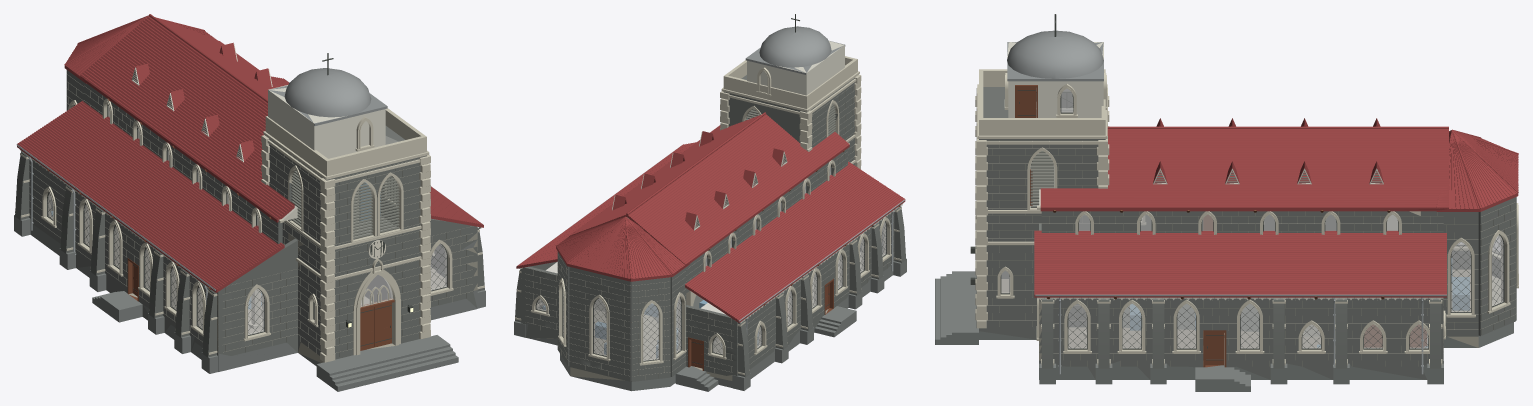
Rendered from clean.glb.
3 views of the same model, side by side, from view 1: azimuth 30°, elevation 25°; view 2: azimuth 150°, elevation 25°; view 3: azimuth 270°, elevation 25° (orthographic). The views are drawn at different scales.
Parts seen in each view (by area): view 1: new_roof_metal_oxblood, basalt_masonry, new_limestone_pale_aged, basalt_dressed, rubble_pointing, limewash, new_zinc_dome_aged, glass, painted_timber_warmgrey, steel_painted_worn, galvanized_steel, limestone_flag (+4 smaller); view 2: new_roof_metal_oxblood, basalt_masonry, new_limestone_pale_aged, basalt_dressed, glass, new_zinc_dome_aged, rubble_pointing, limewash, steel_painted_worn, limestone_flag, galvanized_steel, white_peeling_timber (+2 smaller); view 3: new_roof_metal_oxblood, basalt_masonry, new_limestone_pale_aged, basalt_dressed, glass, rubble_pointing, new_zinc_dome_aged, limewash, steel_painted_worn, limestone_flag, galvanized_steel, painted_timber_warmgrey (+5 smaller).
Boxes of the visible parts, x1,y1,x2,y2 form: new_roof_metal_oxblood: [17, 14, 483, 292]; basalt_masonry: [15, 70, 484, 359]; new_limestone_pale_aged: [15, 98, 484, 362]; basalt_dressed: [14, 215, 485, 391]; rubble_pointing: [30, 74, 477, 357]; limewash: [88, 85, 385, 241]; new_zinc_dome_aged: [269, 68, 387, 125]; glass: [47, 106, 446, 334]; painted_timber_warmgrey: [132, 70, 399, 239]; steel_painted_worn: [47, 53, 447, 335]; galvanized_steel: [16, 79, 481, 304]; limestone_flag: [118, 235, 444, 362]; new_roof_metal_oxblood: [516, 112, 905, 322]; basalt_masonry: [515, 75, 905, 381]; new_limestone_pale_aged: [515, 56, 901, 375]; basalt_dressed: [514, 258, 906, 391]; glass: [536, 165, 886, 360]; new_zinc_dome_aged: [696, 26, 845, 223]; rubble_pointing: [525, 79, 893, 379]; limewash: [543, 41, 844, 343]; steel_painted_worn: [535, 14, 886, 361]; limestone_flag: [537, 252, 861, 380]; galvanized_steel: [516, 145, 904, 334]; white_peeling_timber: [518, 132, 903, 323]; new_roof_metal_oxblood: [1034, 118, 1518, 297]; basalt_masonry: [979, 87, 1516, 379]; new_limestone_pale_aged: [975, 69, 1518, 365]; basalt_dressed: [935, 271, 1513, 391]; glass: [1001, 88, 1503, 348]; rubble_pointing: [987, 140, 1515, 366]; new_zinc_dome_aged: [1007, 30, 1103, 81]; limewash: [1007, 42, 1427, 346]; steel_painted_worn: [970, 14, 1504, 349]; limestone_flag: [1001, 270, 1500, 364]; galvanized_steel: [1035, 294, 1446, 374]; painted_timber_warmgrey: [1030, 151, 1381, 207].
Size of the model in its own units: 20.8 by 18.45 by 33.18.
